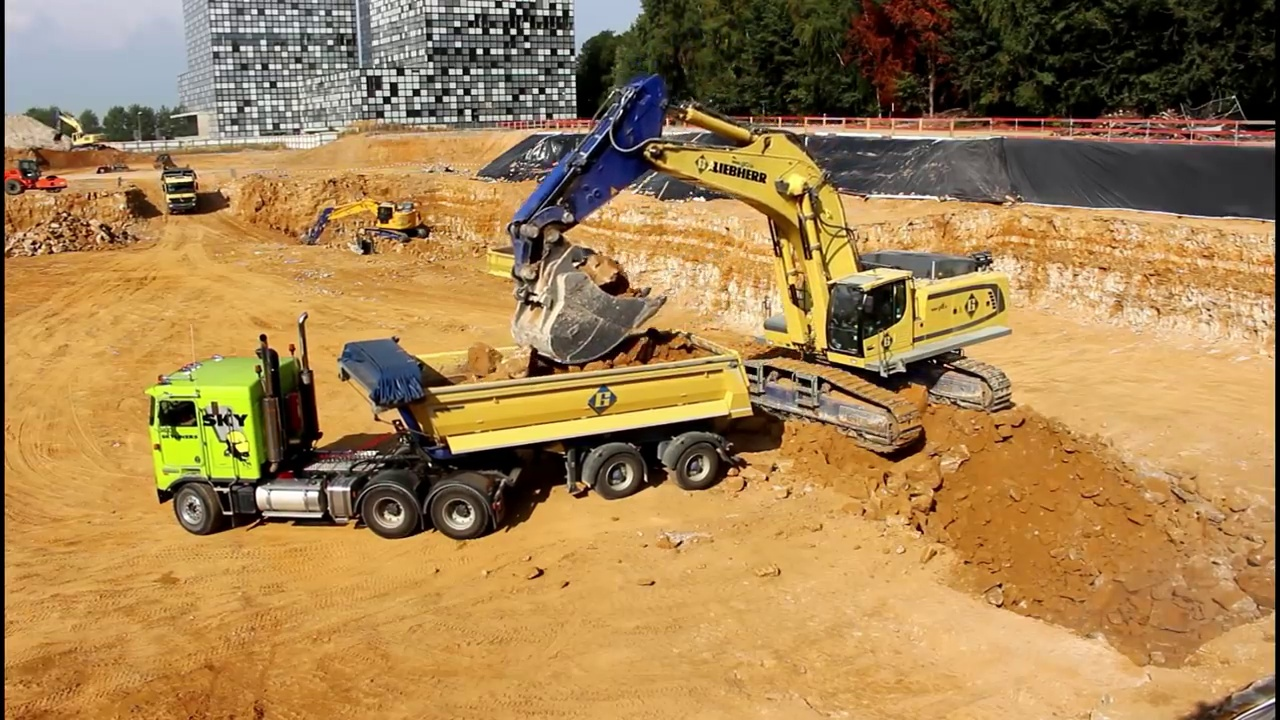compactor: (5, 158, 66, 200)
excavator: (505, 72, 1019, 461), (301, 190, 430, 262), (46, 109, 109, 155)
truck: (143, 307, 766, 545), (153, 159, 206, 219)
